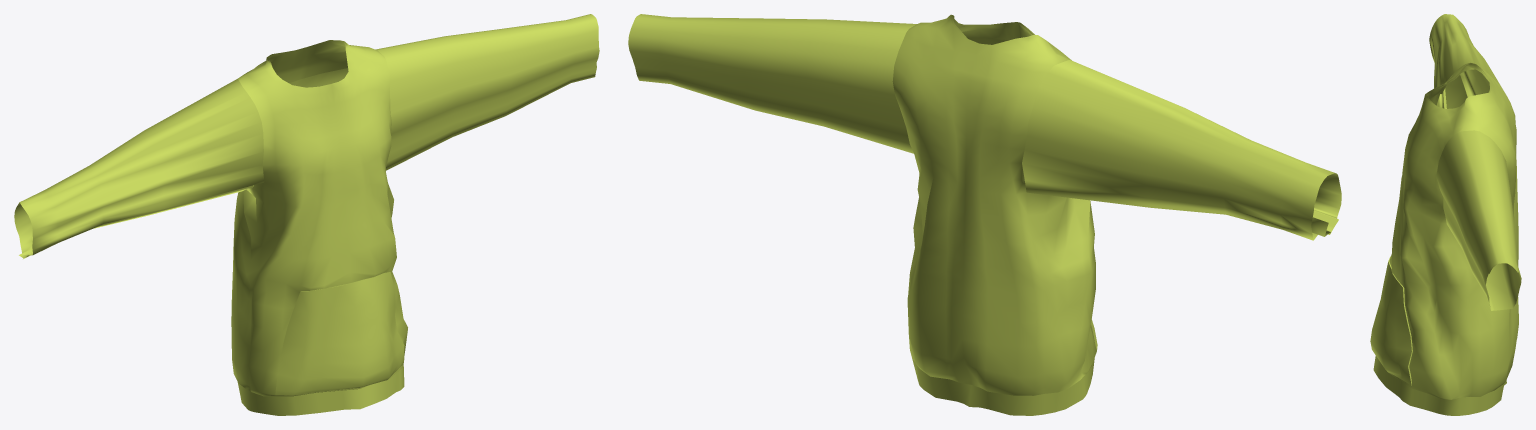
File: hoodie(trial-origin).fbx
3 views of the same model, side by side, from view 1: azimuth 30°, elevation 25°; view 2: azimuth 150°, elevation 25°; view 3: azimuth 270°, elevation 25° (orthographic). The views are drawn at different scales.
Parts seen in each view (by area): view 1: Body_lp, Body_lp.007, Body_lp.008, bottom_cuff; view 2: Body_lp, Body_lp.007, Body_lp.008, bottom_cuff; view 3: Body_lp, Body_lp.008, Body_lp.007, bottom_cuff.
Boxes of the visible parts, bbox=[...] form: Body_lp: bbox=[231, 40, 407, 396]; Body_lp.007: bbox=[14, 78, 264, 258]; Body_lp.008: bbox=[375, 14, 599, 170]; bottom_cuff: bbox=[237, 354, 404, 415]; Body_lp: bbox=[892, 14, 1097, 395]; Body_lp.007: bbox=[1022, 60, 1341, 240]; Body_lp.008: bbox=[628, 14, 916, 153]; bottom_cuff: bbox=[912, 358, 1094, 415]; Body_lp: bbox=[1370, 63, 1518, 399]; Body_lp.008: bbox=[1436, 130, 1521, 310]; Body_lp.007: bbox=[1429, 14, 1502, 108]; bottom_cuff: bbox=[1373, 355, 1506, 415].
Size of the model in its own units: 1458 by 777 by 349.
